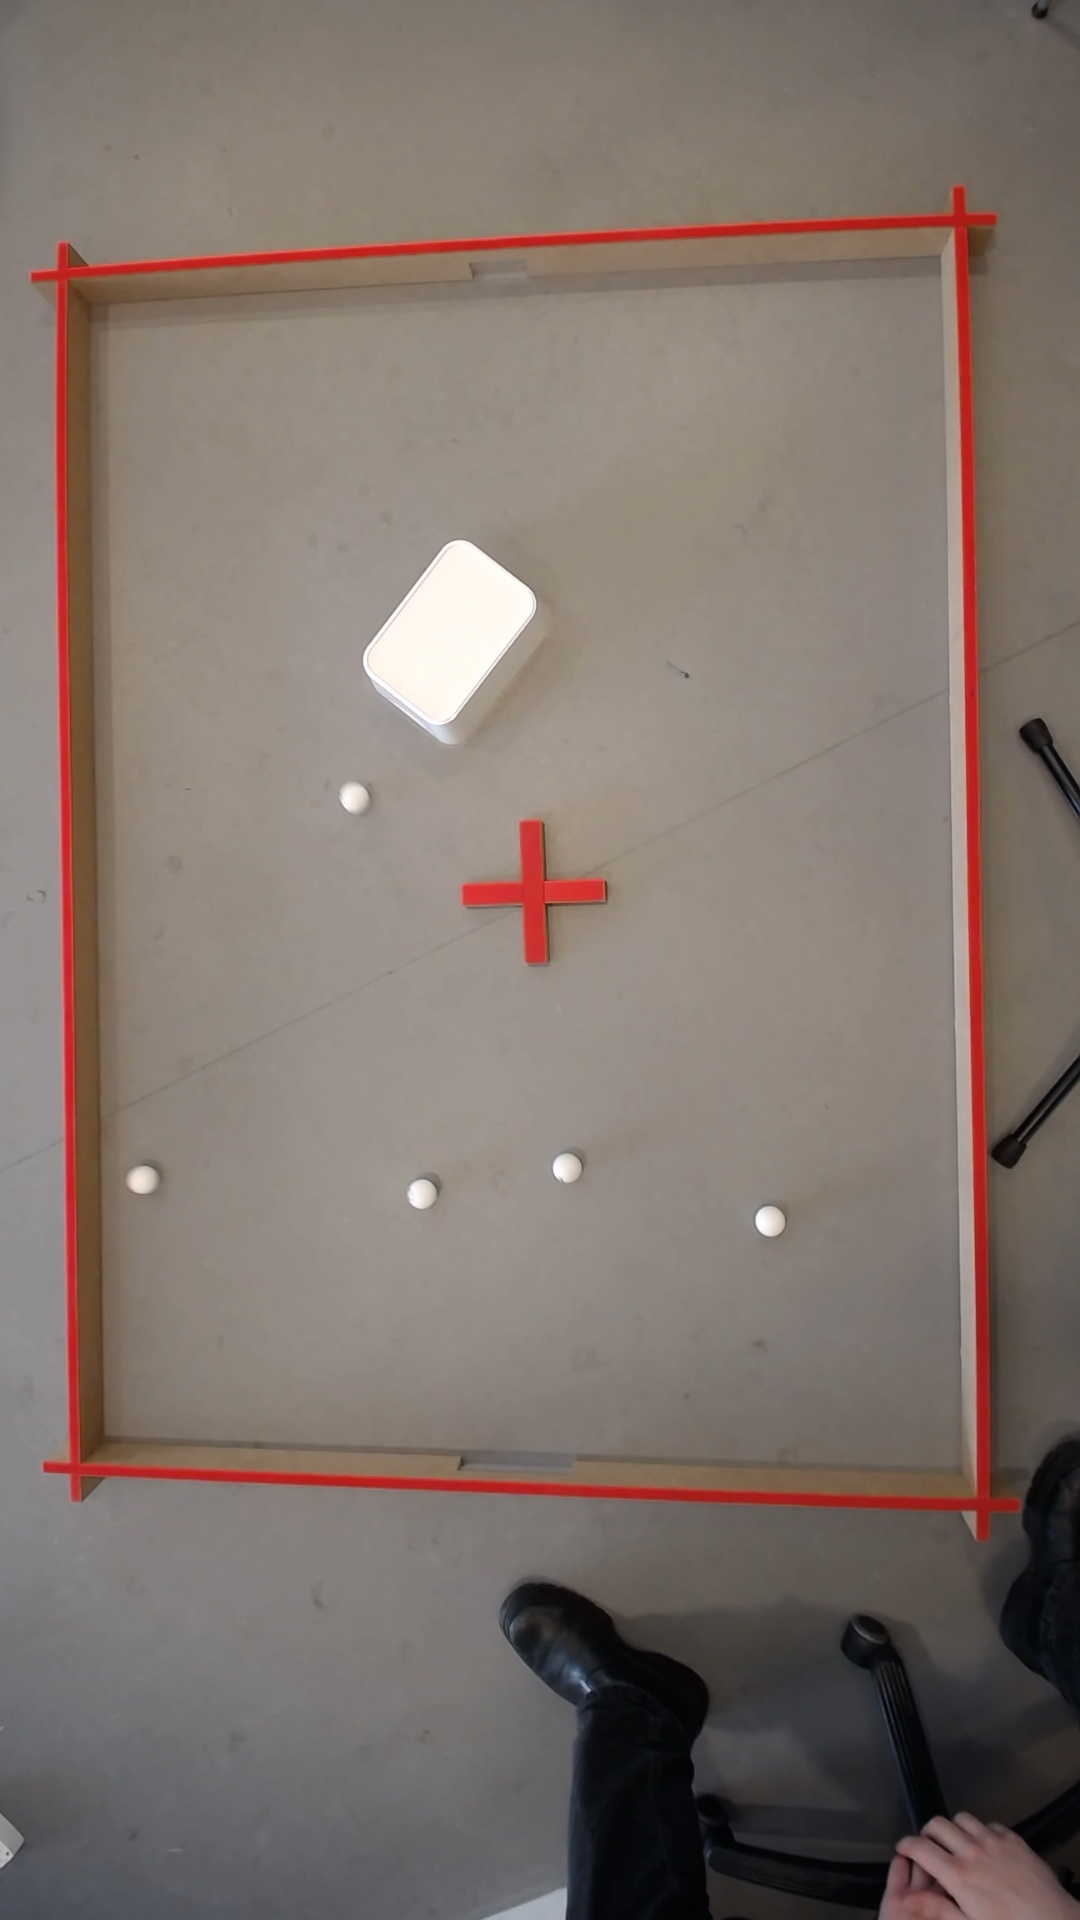balls: (347, 530, 549, 742), (749, 1204, 783, 1238), (546, 1151, 578, 1183), (407, 1179, 430, 1208), (340, 785, 364, 810)
car: (129, 1168, 150, 1192)
